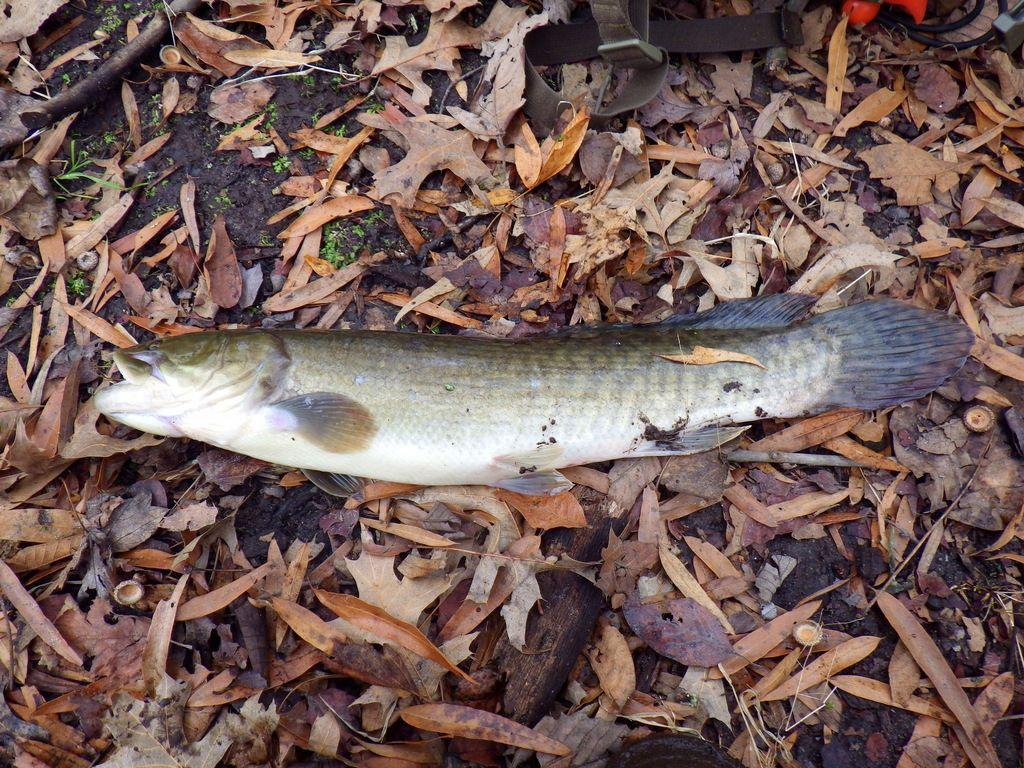Mudfish: (105, 300, 978, 482)
